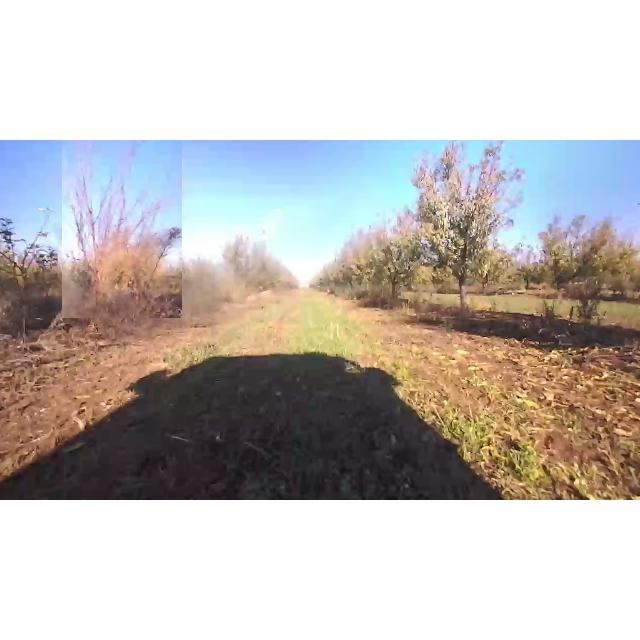direk: (61, 140, 182, 318), (403, 140, 505, 316), (534, 210, 638, 318), (372, 213, 418, 304), (505, 243, 547, 291)
